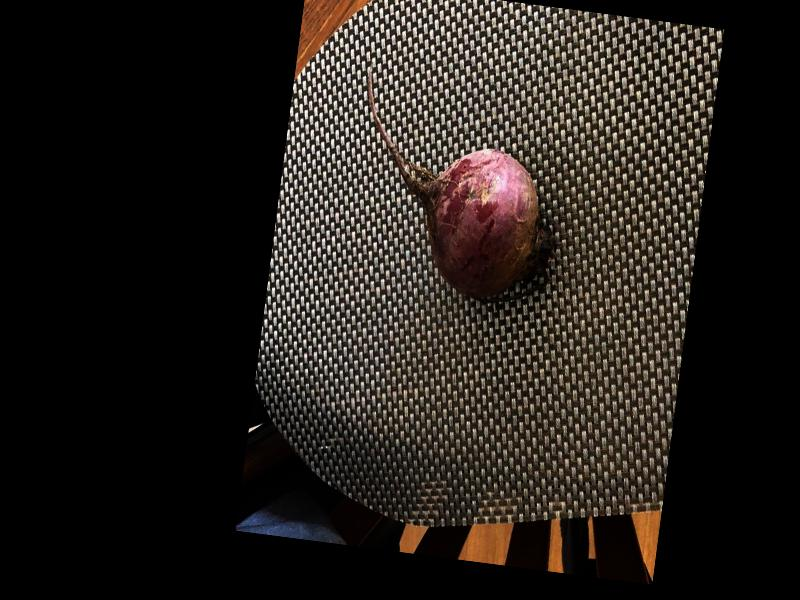Beet: (339, 66, 575, 308)
